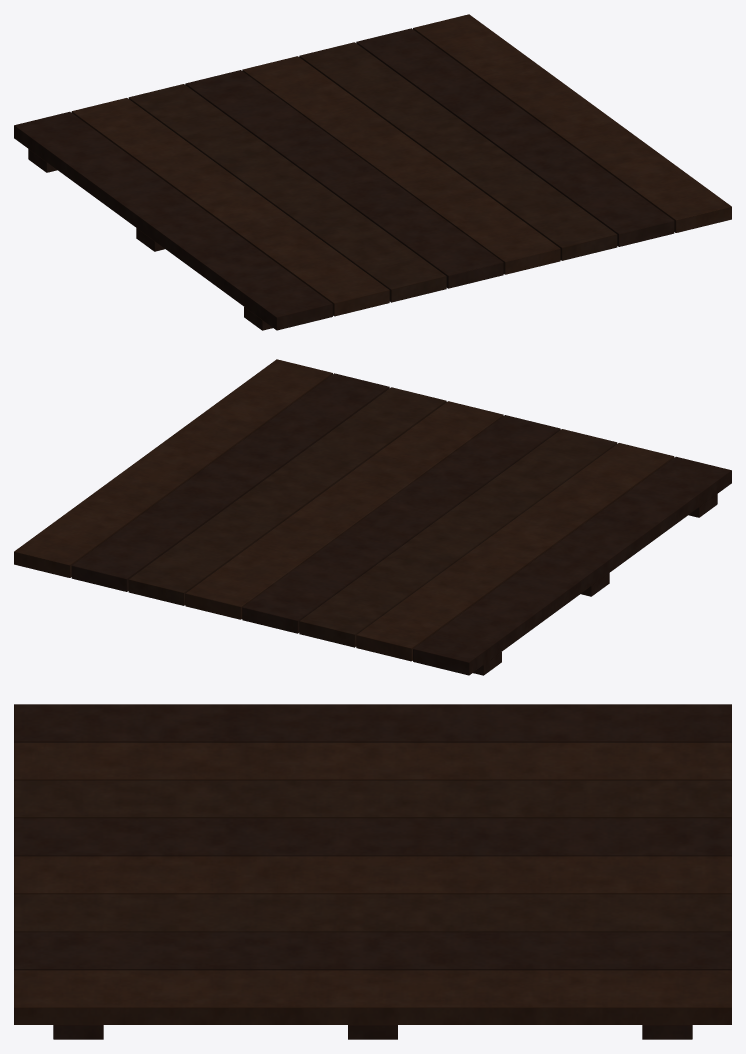
3 renders of one model, top to bottom at view 1: azimuth 30°, elevation 25°; view 2: azimuth 150°, elevation 25°; view 3: azimuth 270°, elevation 25°, orthographic. The views are drawn at different scales.
Visible parts, largest first — view 1: FT_045_plank_1, FT_045_plank_8, FT_045_plank_4, FT_045_plank_3, FT_045_plank_6, FT_045_plank_7, FT_045_plank_5, FT_045_plank_2; view 2: FT_045_plank_1, FT_045_plank_8, FT_045_plank_4, FT_045_plank_3, FT_045_plank_6, FT_045_plank_7, FT_045_plank_5, FT_045_plank_2; view 3: FT_045_plank_8, FT_045_plank_1, FT_045_plank_2, FT_045_plank_3, FT_045_plank_4, FT_045_plank_5, FT_045_plank_6, FT_045_plank_7, FT_045_crossjoist_1, FT_045_crossjoist_3, FT_045_crossjoist_2.
Boxes of the visible parts, box(x1,y1,x2,y2) form: FT_045_plank_1: box(14, 111, 332, 330); FT_045_plank_8: box(413, 14, 731, 232); FT_045_plank_4: box(185, 70, 503, 288); FT_045_plank_3: box(128, 84, 446, 302); FT_045_plank_6: box(299, 42, 617, 260); FT_045_plank_7: box(356, 28, 674, 246); FT_045_plank_5: box(242, 56, 560, 274); FT_045_plank_2: box(71, 98, 389, 316); FT_045_plank_1: box(413, 456, 731, 675); FT_045_plank_8: box(14, 359, 332, 577); FT_045_plank_4: box(242, 415, 560, 633); FT_045_plank_3: box(299, 429, 617, 647); FT_045_plank_6: box(128, 387, 446, 605); FT_045_plank_7: box(71, 373, 389, 591); FT_045_plank_5: box(185, 401, 503, 619); FT_045_plank_2: box(356, 443, 674, 661); FT_045_plank_8: box(14, 970, 731, 1024); FT_045_plank_1: box(14, 704, 731, 742); FT_045_plank_2: box(14, 742, 731, 780); FT_045_plank_3: box(14, 780, 731, 818); FT_045_plank_4: box(14, 818, 731, 856); FT_045_plank_5: box(14, 856, 731, 894); FT_045_plank_6: box(14, 894, 731, 932); FT_045_plank_7: box(14, 932, 731, 970); FT_045_crossjoist_1: box(53, 1025, 103, 1039); FT_045_crossjoist_3: box(642, 1025, 692, 1039); FT_045_crossjoist_2: box(348, 1025, 397, 1039).
Bounding box in the file's own units: 2 × 0.1 × 2.
11 materials, 11 textured.
